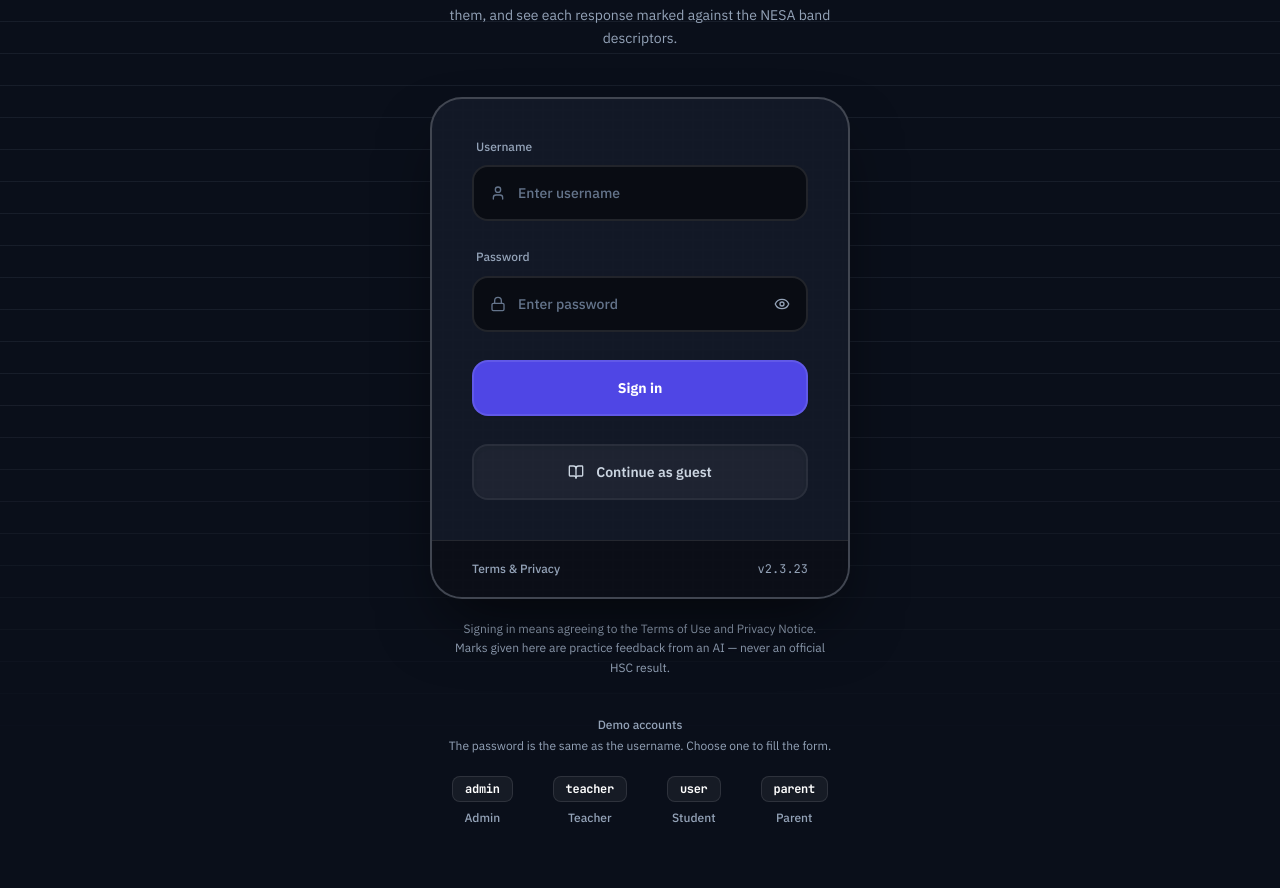
Test: LoginPage sign-in › fills the form from a demo-account chip
The image size is (1280, 888).
(page scrolled)
Click the button with aria-label "teacher demo account": (590, 801) [545,770,635,832]
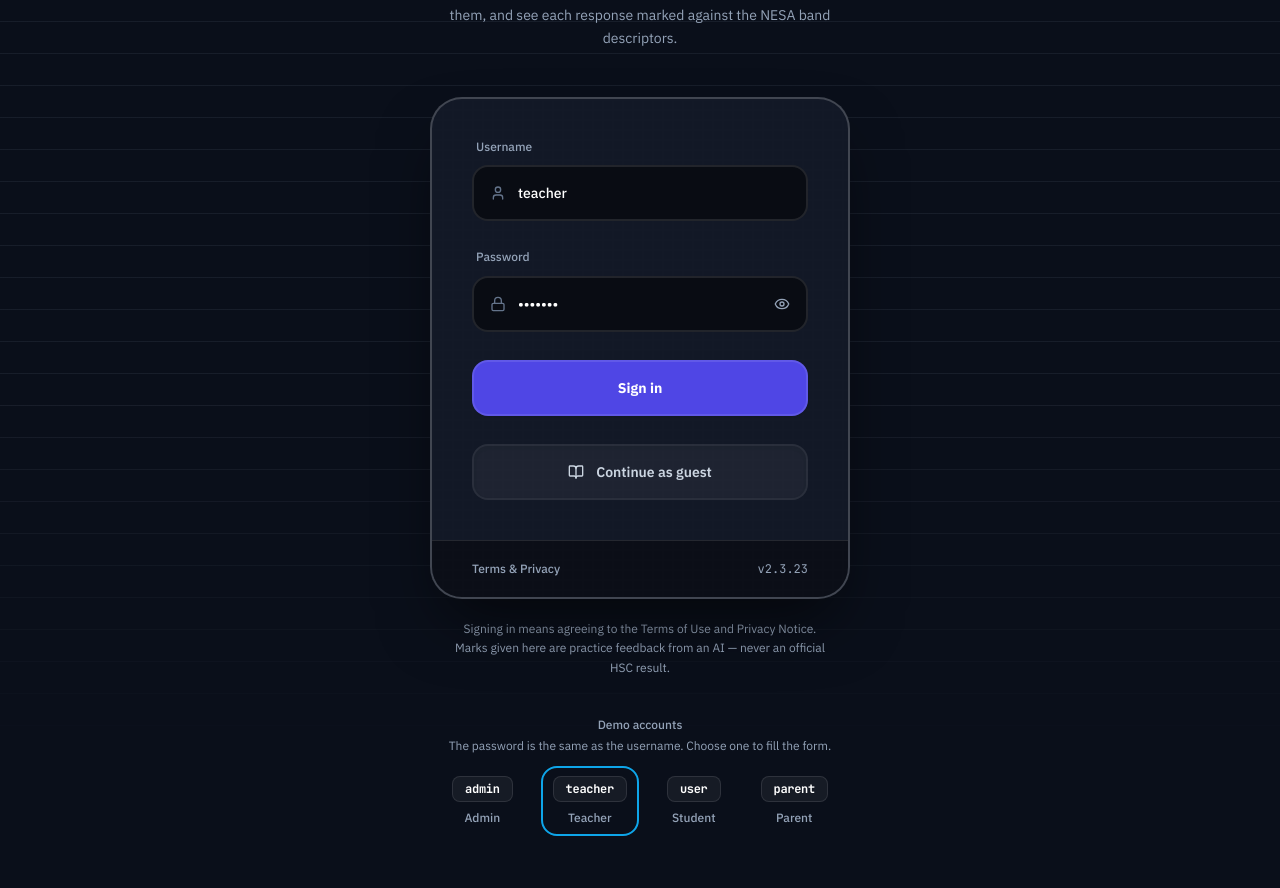
Expected: the field labelled "Username" holds "teacher", [506,167,806,219]
Expected: the password field labelled "Password" holds "teacher", [506,278,764,330]
